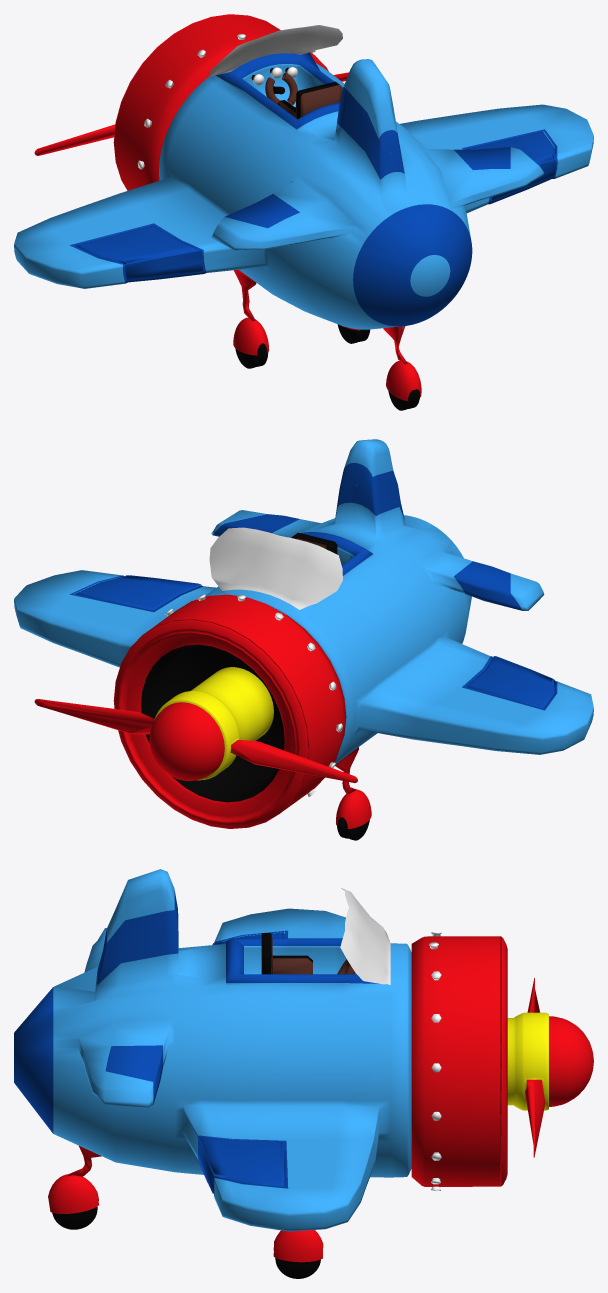
Rendered from  airplane.glb.
The picture shows the model from 3 angles, top to bottom: view 1: azimuth 30°, elevation 25°; view 2: azimuth 150°, elevation 25°; view 3: azimuth 270°, elevation 25°; orthographic projection. The views are drawn at different scales.
Visible parts, largest first — view 1: Cylinder; view 2: Cylinder; view 3: Cylinder.
Part boxes in pixels (<box>): Cylinder: <box>14,14,593,410</box>; Cylinder: <box>14,439,593,840</box>; Cylinder: <box>14,869,593,1278</box>.
Bounding box in the file's own units: 5.75 × 3.32 × 4.63.
